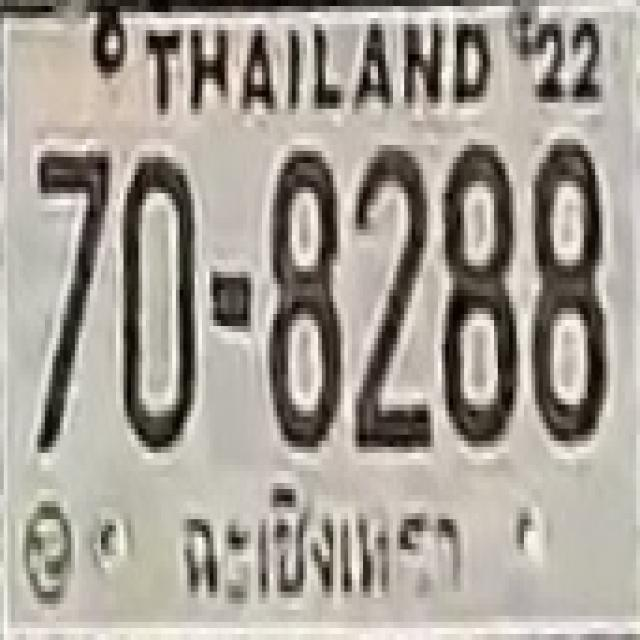0: (122, 151, 196, 447)
2: (352, 145, 426, 447)
7: (34, 145, 108, 447)
8: (530, 133, 604, 441), (442, 139, 516, 441), (266, 145, 337, 447)
CCO: (171, 466, 474, 620)
